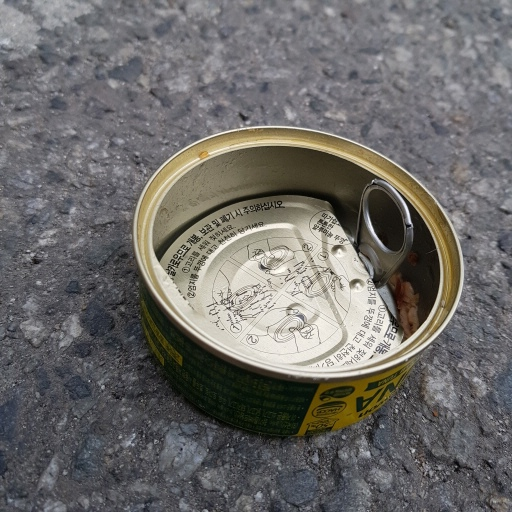Metal_1: (130, 123, 468, 435)
